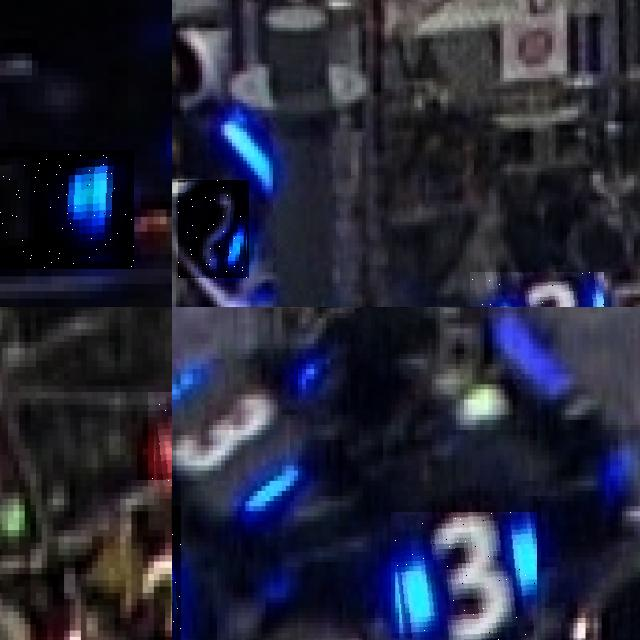B1: (0, 150, 134, 269)
B2: (178, 180, 249, 278), (470, 272, 604, 307)
B3: (391, 511, 537, 640)
R2: (148, 392, 172, 486)
